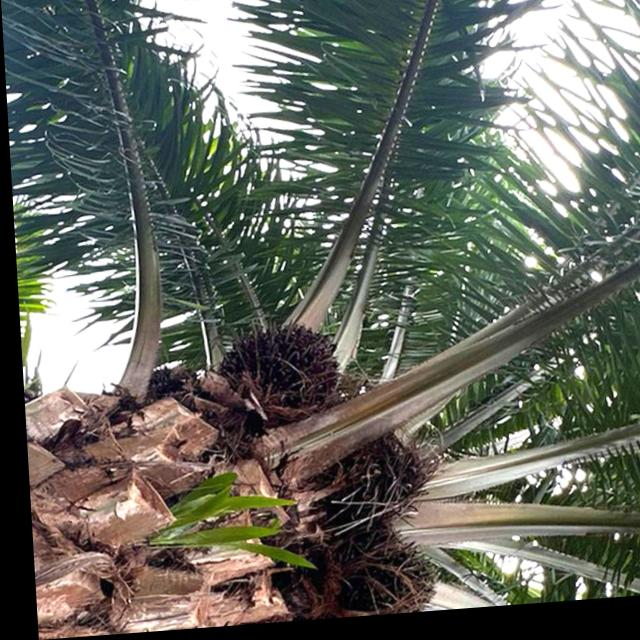almost: (208, 319, 341, 431)
